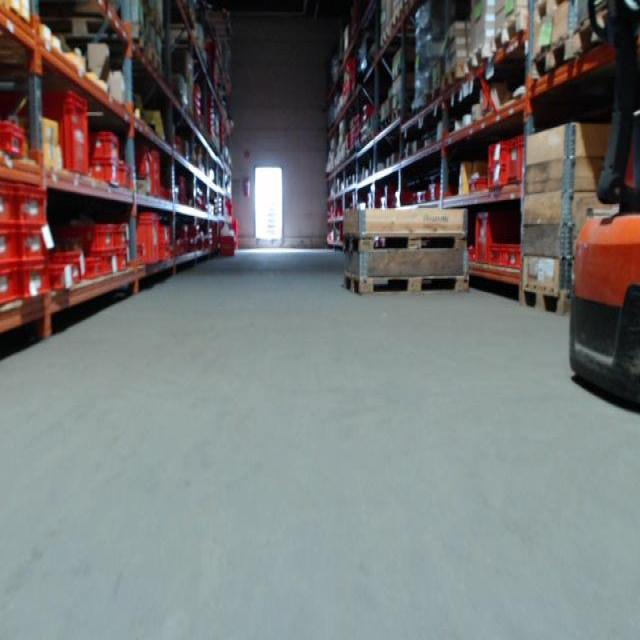pallet: (338, 230, 468, 256), (342, 270, 471, 295), (530, 30, 579, 87), (490, 7, 529, 55), (578, 4, 611, 59), (515, 285, 569, 317), (533, 0, 569, 27), (464, 41, 489, 77), (442, 63, 463, 93), (144, 45, 164, 75), (426, 83, 442, 107), (392, 106, 401, 123)
pallet_truck: (554, 3, 639, 416)
small_load_carrier: (17, 91, 94, 173), (471, 215, 521, 266), (56, 217, 118, 256), (506, 133, 532, 186), (135, 212, 159, 269), (19, 182, 47, 226), (57, 247, 88, 285), (88, 163, 124, 191), (22, 266, 51, 298), (88, 134, 121, 162), (2, 123, 26, 159), (102, 215, 128, 247), (49, 265, 79, 290), (2, 185, 21, 224), (20, 233, 47, 260), (3, 226, 22, 264), (506, 242, 530, 272), (1, 265, 19, 304), (486, 138, 511, 164), (116, 163, 135, 193), (485, 245, 507, 268), (81, 257, 103, 279), (100, 256, 130, 272), (483, 166, 508, 184), (153, 223, 173, 242), (159, 240, 170, 263)
